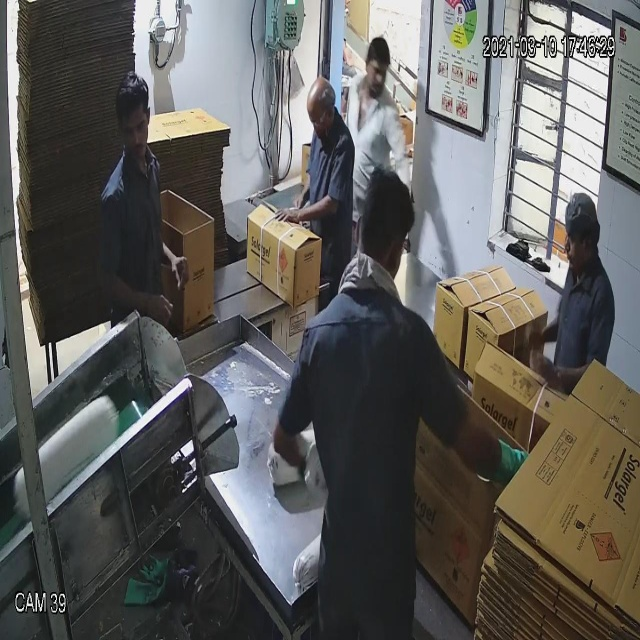Sin_guantes: (91, 264, 175, 340), (537, 332, 598, 398), (261, 189, 348, 231)
